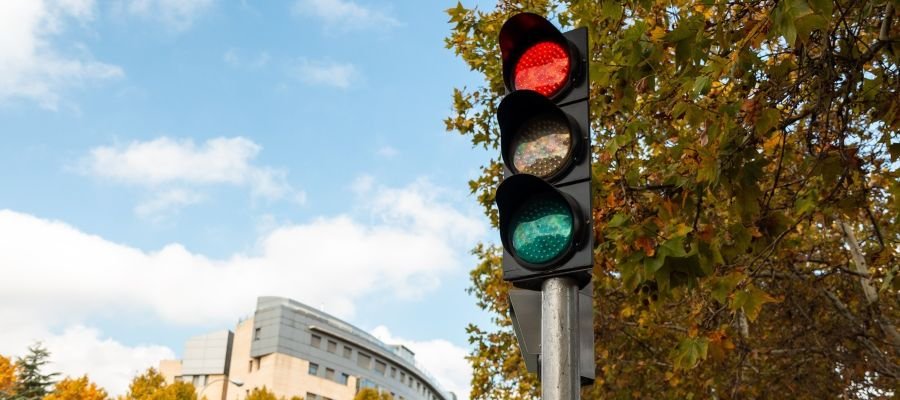Arbol: (469, 1, 900, 399)
Poste: (514, 278, 591, 398)
Semaforo: (501, 21, 591, 275)
